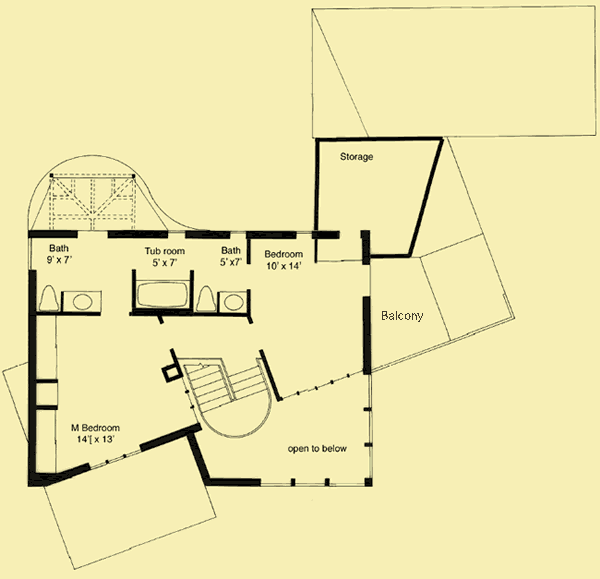large_sink: (35, 280, 61, 314), (193, 283, 220, 314)
small_sink: (63, 291, 103, 315), (217, 292, 250, 314)
stairs: (175, 351, 278, 440)
tub: (134, 278, 192, 308)
window: (255, 476, 369, 491), (360, 370, 375, 483), (159, 227, 192, 238), (74, 229, 108, 239), (226, 230, 248, 242)
